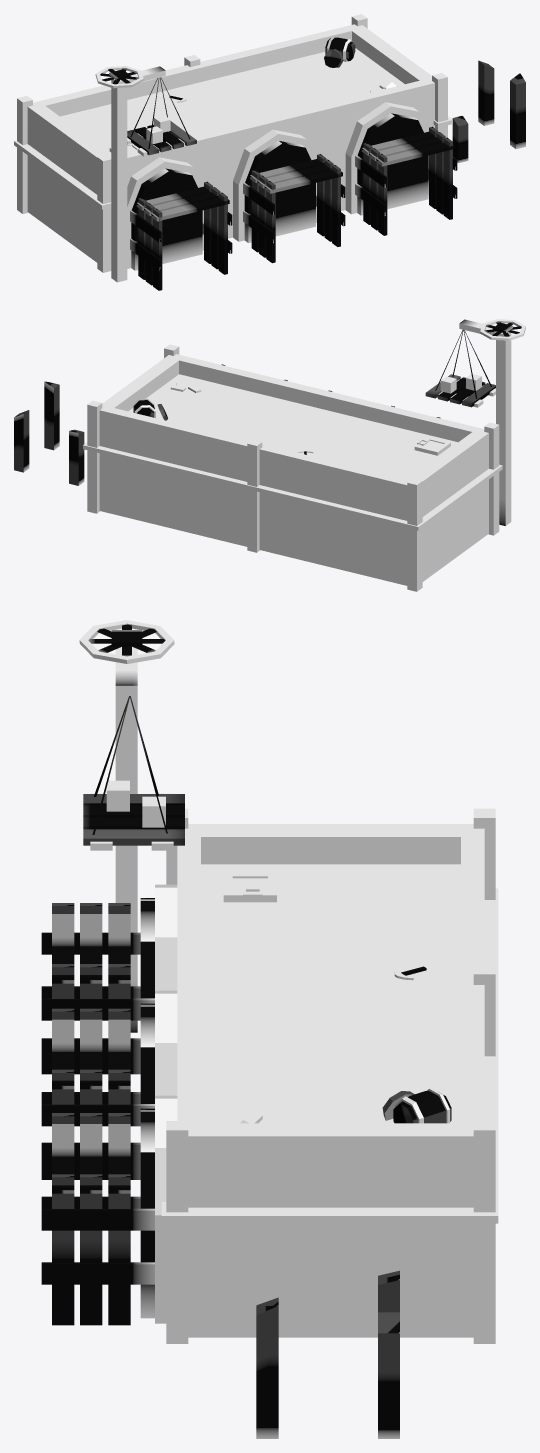
Rendered from FireStationPhase01.fbx.
3 renders of one model, top to bottom at view 1: azimuth 30°, elevation 25°; view 2: azimuth 150°, elevation 25°; view 3: azimuth 270°, elevation 25°, orthographic. The views are drawn at different scales.
Visible parts, largest first — view 1: FireStationPhase01; view 2: FireStationPhase01; view 3: FireStationPhase01.
Boxes of the visible parts, left/top/right/bottom form: FireStationPhase01: left=14, top=14, right=525, bottom=290; FireStationPhase01: left=14, top=319, right=525, bottom=591; FireStationPhase01: left=41, top=620, right=498, bottom=1438.
Size of the model in its own units: 8.72 by 3.74 by 3.91.
